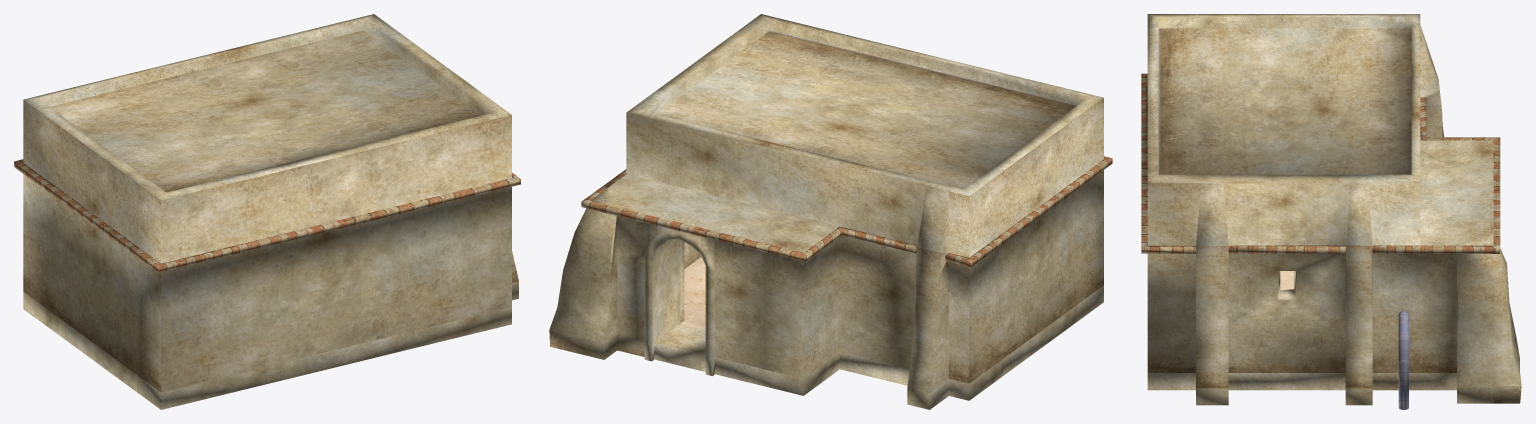
Rendered from sw_tatooine_house2.fbx.
The picture shows the model from 3 angles, left to right: view 1: azimuth 30°, elevation 25°; view 2: azimuth 150°, elevation 25°; view 3: azimuth 270°, elevation 25°; orthographic projection. The views are drawn at different scales.
Parts seen in each view (by area): view 1: sw_tatooine_house2; view 2: sw_tatooine_house2; view 3: sw_tatooine_house2.
Part boxes in pixels (x1,y1,x2,y2): sw_tatooine_house2: [14, 14, 520, 409]; sw_tatooine_house2: [549, 14, 1112, 409]; sw_tatooine_house2: [1141, 14, 1521, 409].
Bounding box in the file's own units: 782 × 416 × 672.
1 material, 1 textured.
